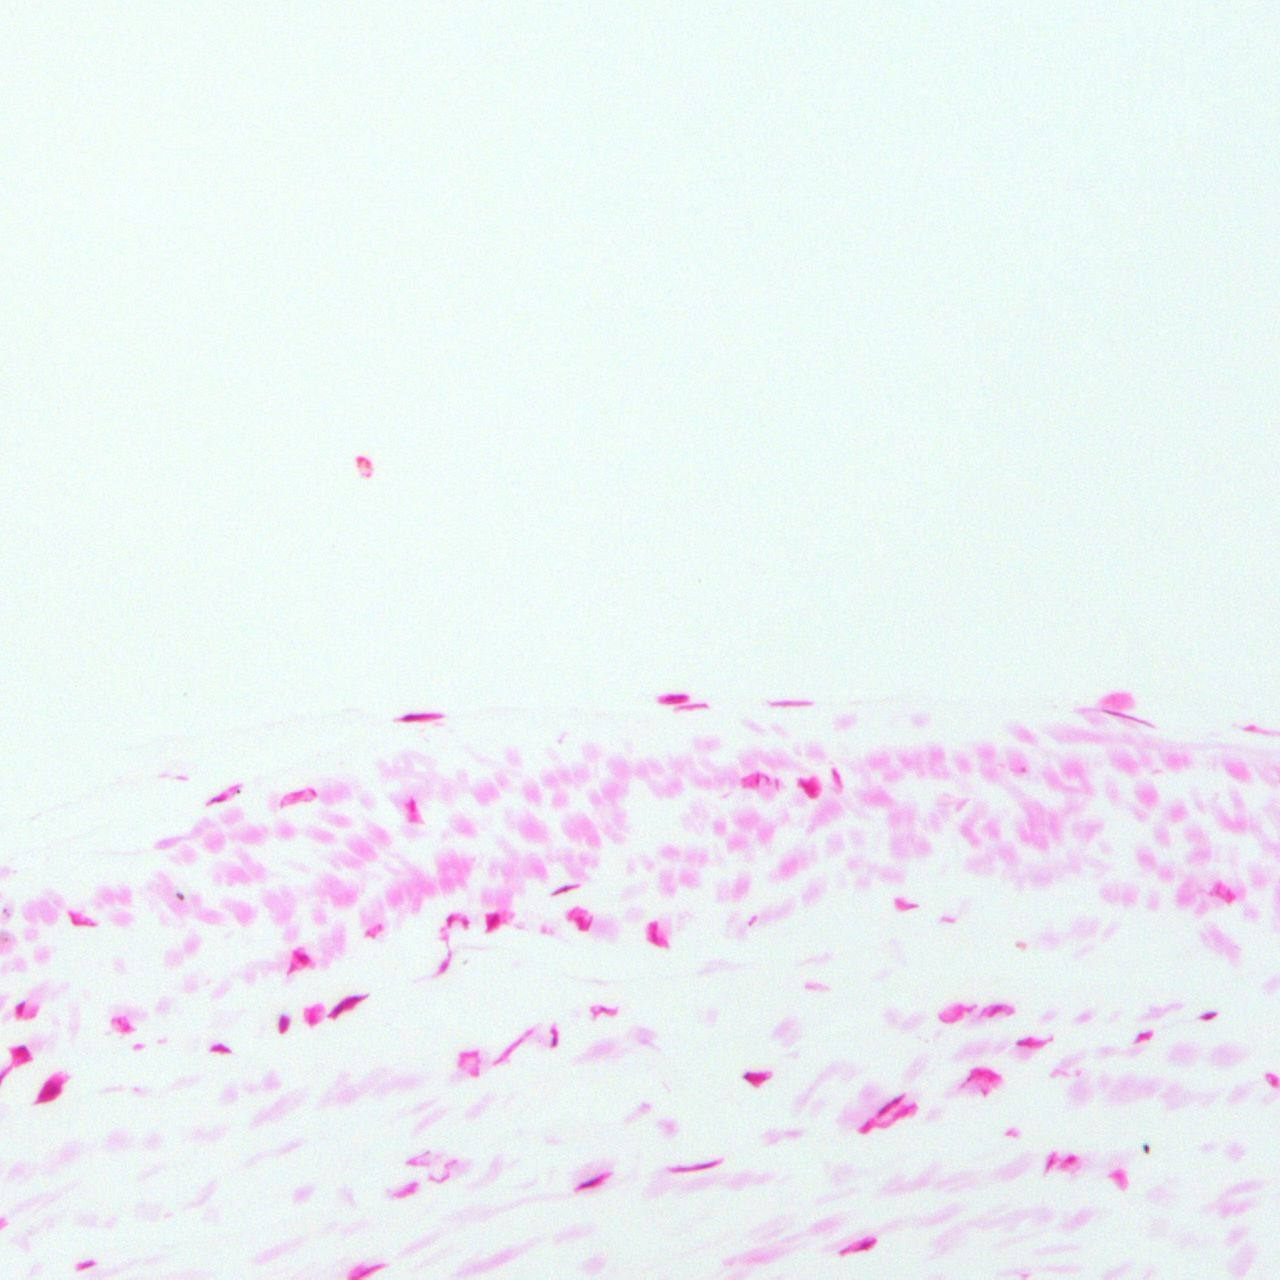dust: (175, 892, 185, 900), (1143, 1143, 1149, 1155), (236, 789, 241, 794), (4, 908, 7, 913), (4, 937, 6, 942), (7, 913, 9, 918)
nucleus-FG: (495, 1024, 535, 1065), (33, 1068, 69, 1112), (325, 989, 363, 1020), (874, 1091, 906, 1119), (670, 1158, 724, 1175), (350, 1259, 388, 1280), (576, 1172, 611, 1193), (888, 1099, 918, 1124), (797, 777, 823, 801), (549, 880, 581, 898), (394, 712, 445, 722), (8, 1044, 32, 1065), (742, 1071, 769, 1085), (829, 767, 844, 790), (291, 946, 309, 964), (1135, 1028, 1155, 1044), (1058, 1153, 1078, 1170), (673, 702, 707, 712), (11, 999, 27, 1017), (983, 1003, 1005, 1017), (485, 912, 501, 931), (658, 694, 688, 703), (76, 1258, 96, 1272), (1043, 1151, 1057, 1171), (855, 1240, 876, 1253), (576, 915, 593, 931), (649, 921, 660, 946), (550, 1027, 560, 1051), (858, 1119, 874, 1135), (769, 700, 811, 706), (1016, 1036, 1035, 1049), (278, 1014, 290, 1034), (1200, 1009, 1218, 1022), (207, 1043, 230, 1051), (68, 912, 79, 927), (307, 787, 316, 797), (410, 798, 417, 812), (445, 914, 454, 926), (211, 798, 226, 803)
